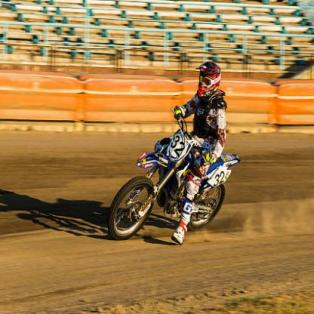Motocicleta: (106, 114, 240, 243)
